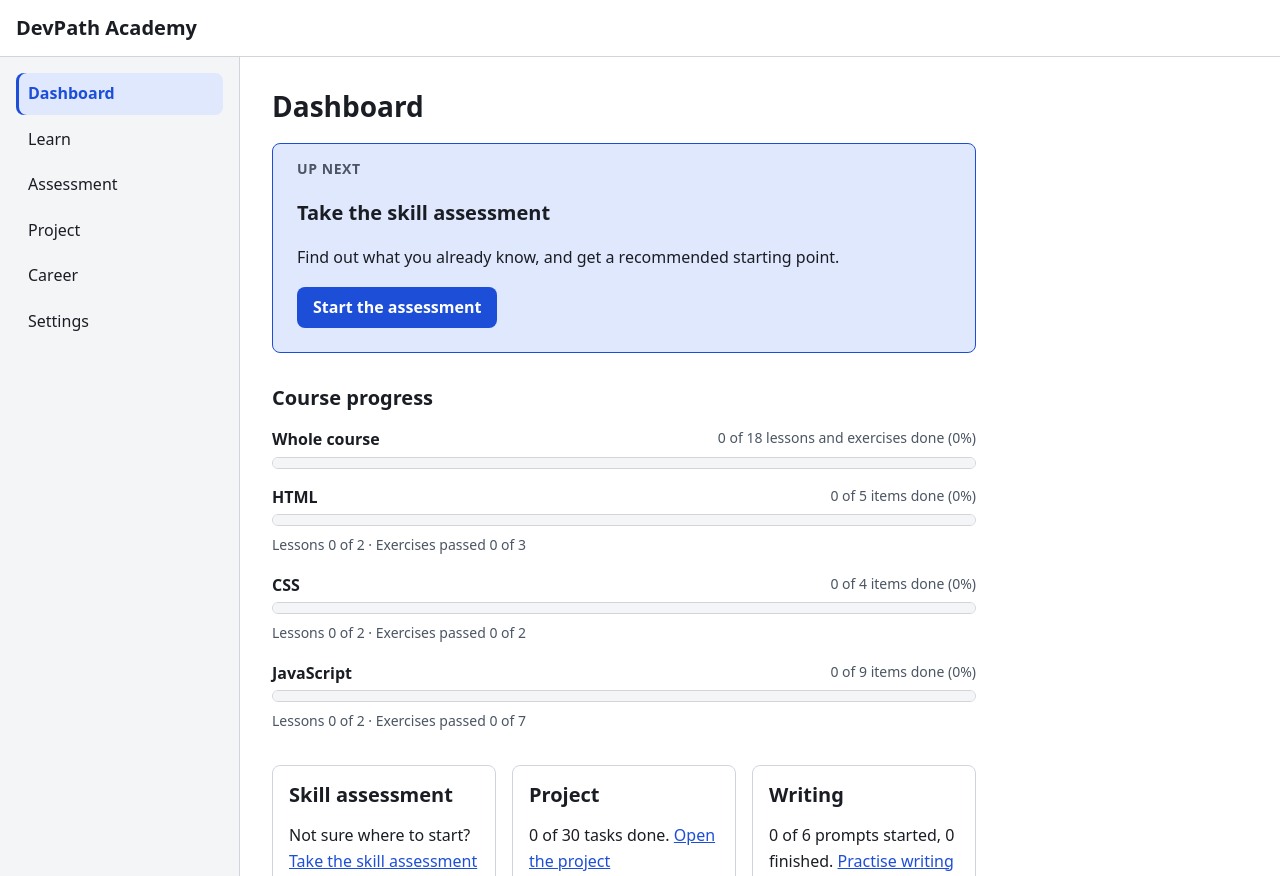
Test case: routing › navigates when a sidebar link is clicked and marks it as the current page
The width and height of the screenshot is (1280, 876).
Click the link "Learn".
click(49, 139)  # box [28,128,71,150]
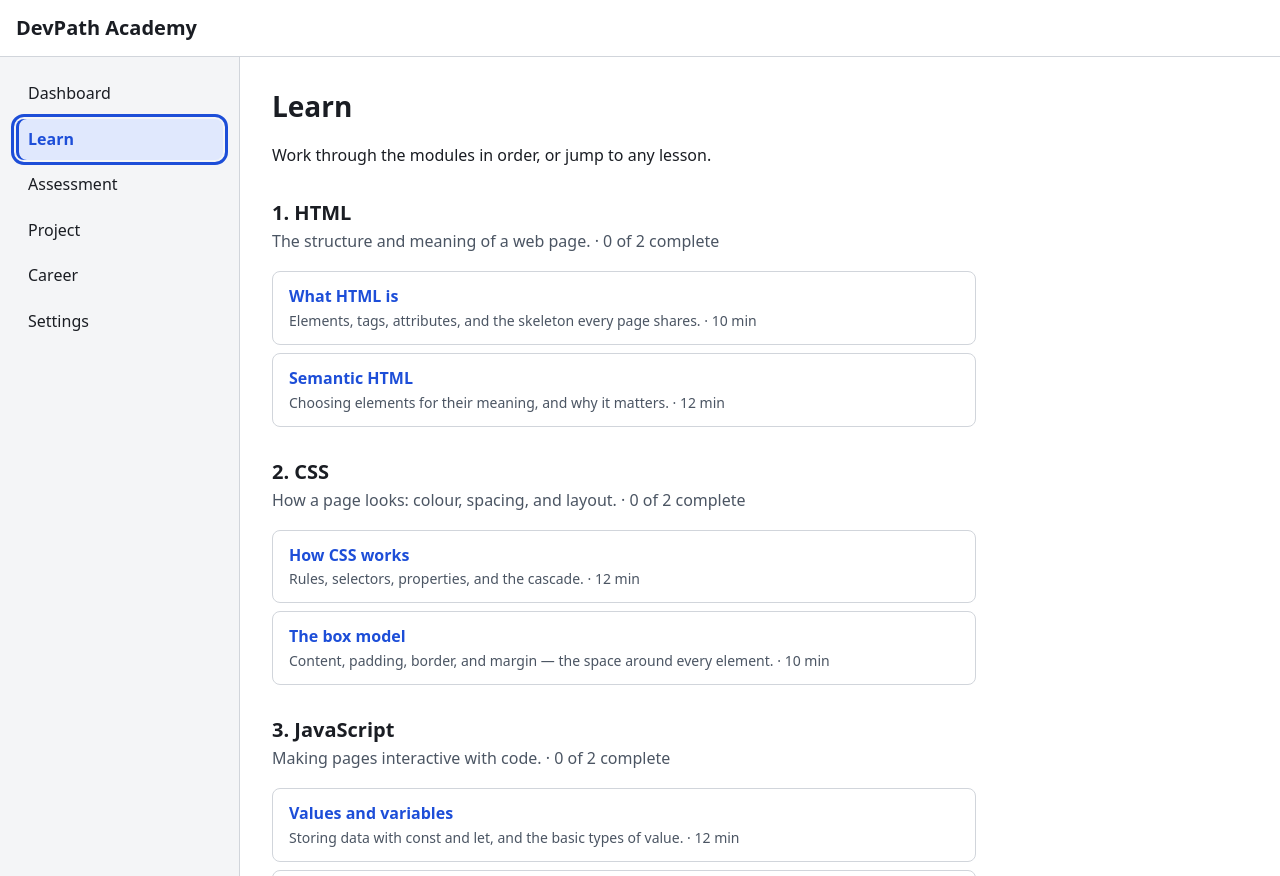
Expected: the heading "Learn" is shown, [272,87,352,125]
